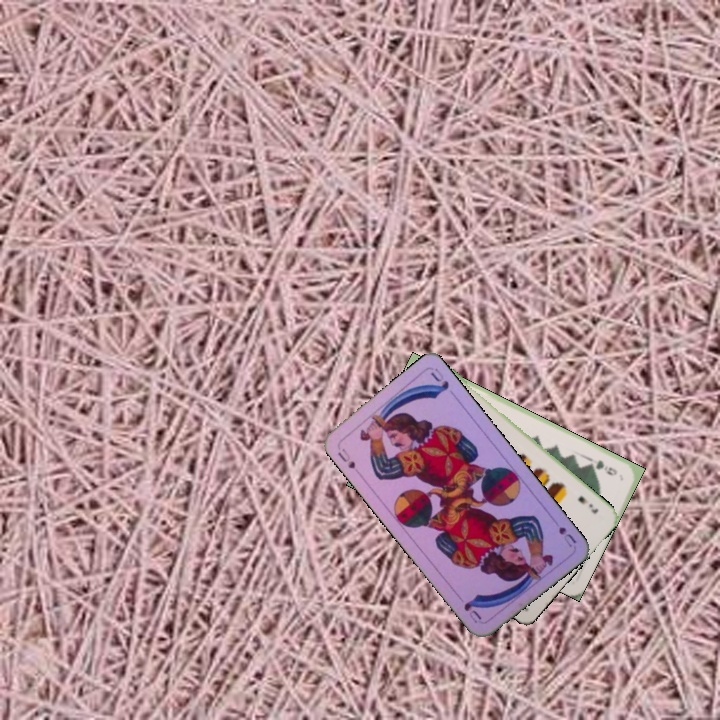E7: (574, 492, 601, 516)
G9: (592, 456, 620, 478)
SU: (547, 513, 579, 550), (333, 445, 358, 472)
